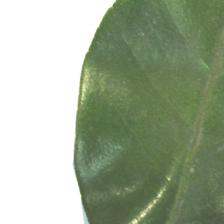healthy: (76, 1, 224, 224)
